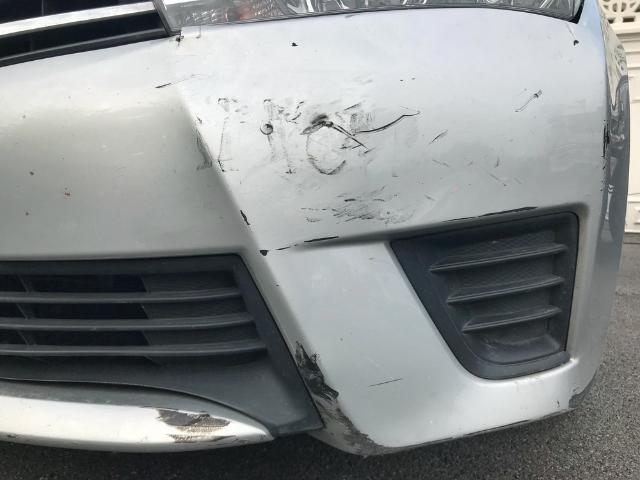scratch: (187, 88, 555, 259), (292, 343, 459, 457), (157, 407, 248, 448)
